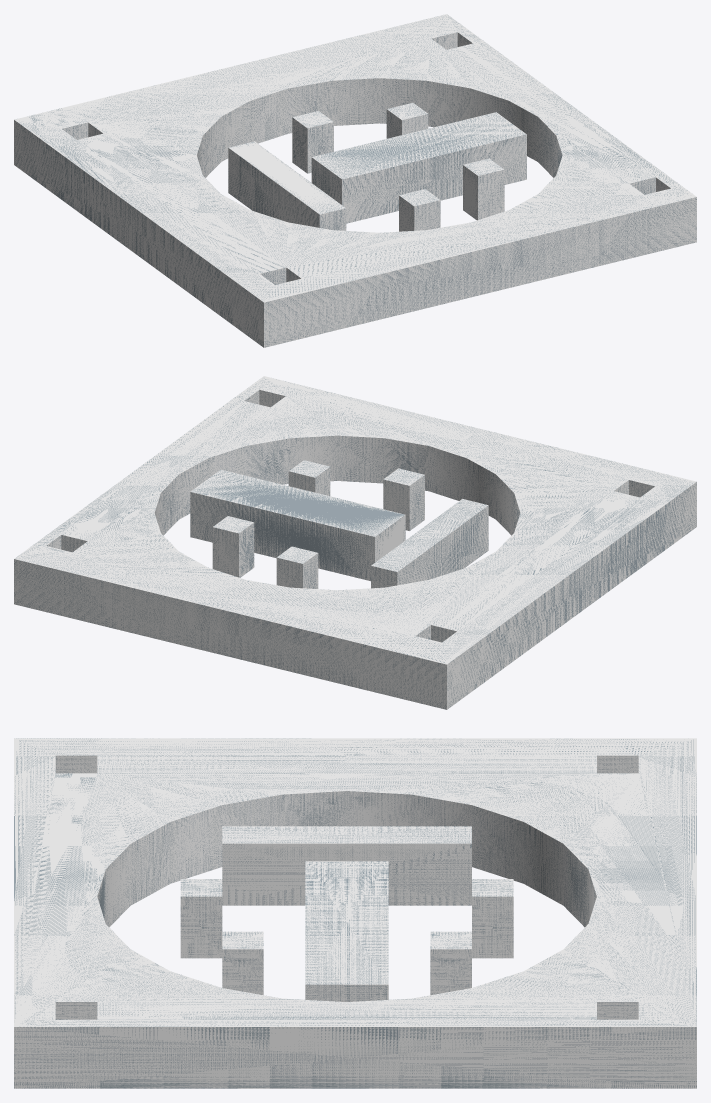
3 views of the same model, one above another, from view 1: azimuth 30°, elevation 25°; view 2: azimuth 150°, elevation 25°; view 3: azimuth 270°, elevation 25° (orthographic). The views are drawn at different scales.
Visible parts, largest first — view 1: Model; view 2: Model; view 3: Model.
Boxes of the visible parts, left/top/right/bottom form: Model: left=14, top=14, right=696, bottom=347; Model: left=14, top=376, right=696, bottom=709; Model: left=14, top=738, right=696, bottom=1088.
Bounding box in the file's own units: 5 × 0.5 × 5.
